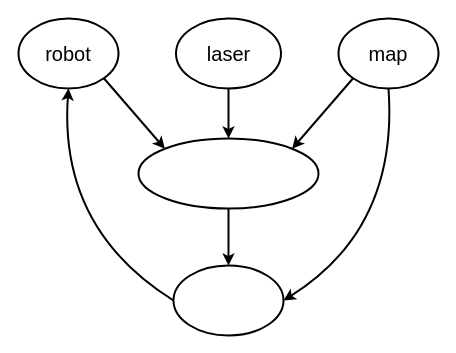
This 456x353 diagram has some shape labels left out. The centre of each missing label's shape, as x and y in pixels:
"localization" goes at point (228, 173).
"planner" goes at point (228, 300).
